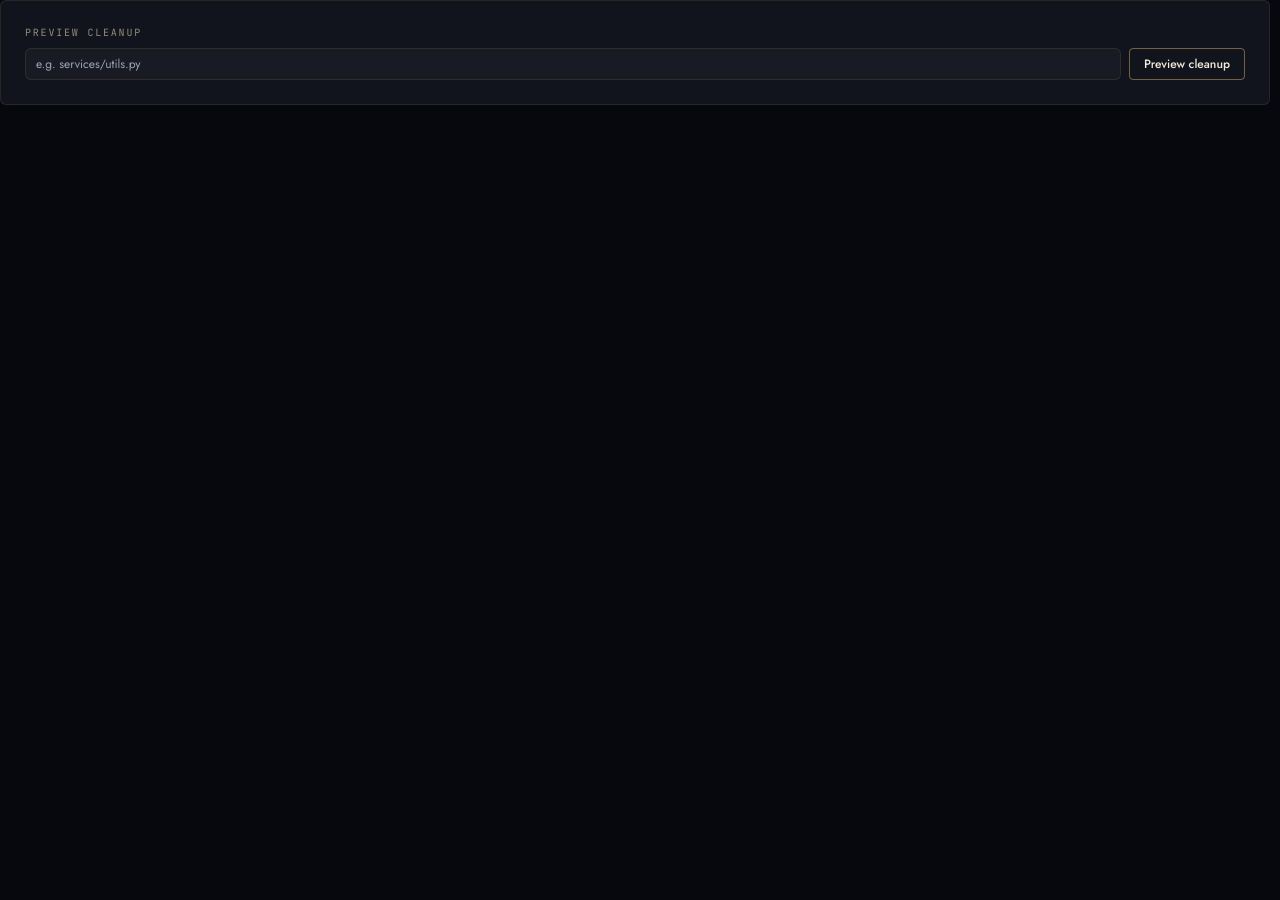
Test case: Ticket F-UI · SimplifyFilePanel › shows an honest fallback when the commit succeeded but opening the PR failed (pr_url null)
The image size is (1280, 900).
Type "a.py" into the field with test id "simplify-file-path-input".
click(573, 64); type("a.py")  # box [25,48,1121,80]
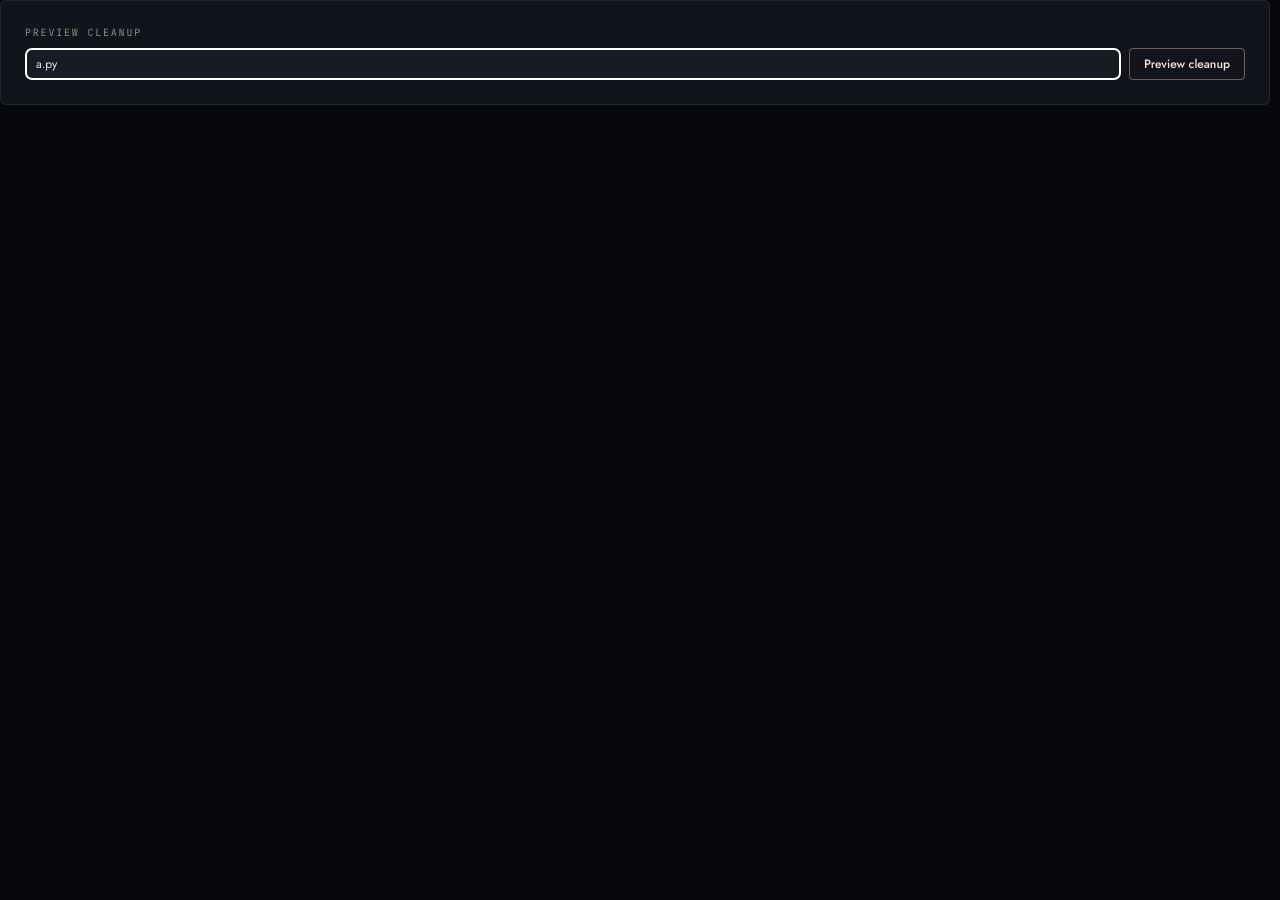
Click the button with test id "simplify-file-preview-btn".
click(1187, 64)  # box [1129,48,1245,80]
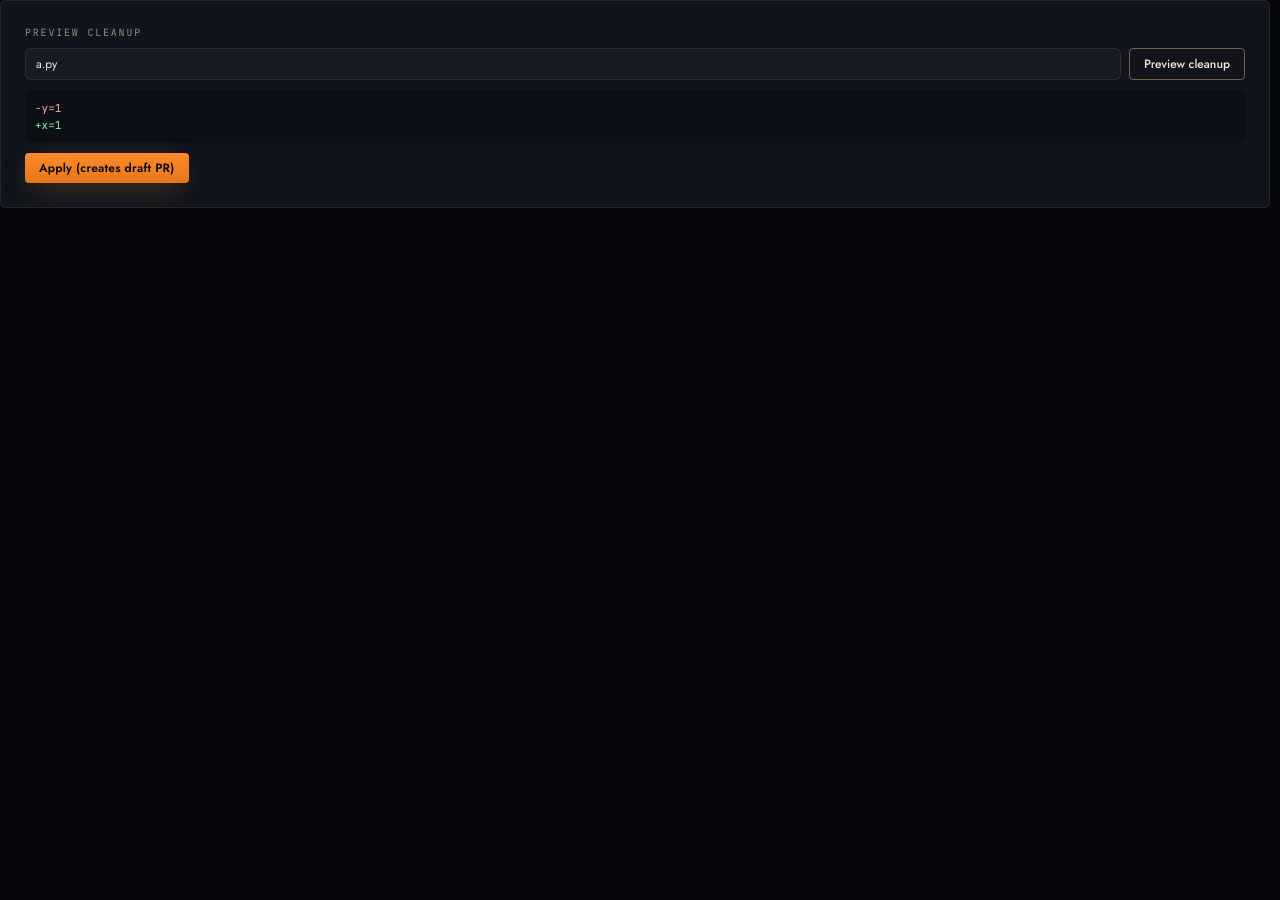
Now the button with test id "simplify-apply-btn" is shown
Click the button with test id "simplify-apply-btn".
click(107, 168)  # box [25,153,188,183]
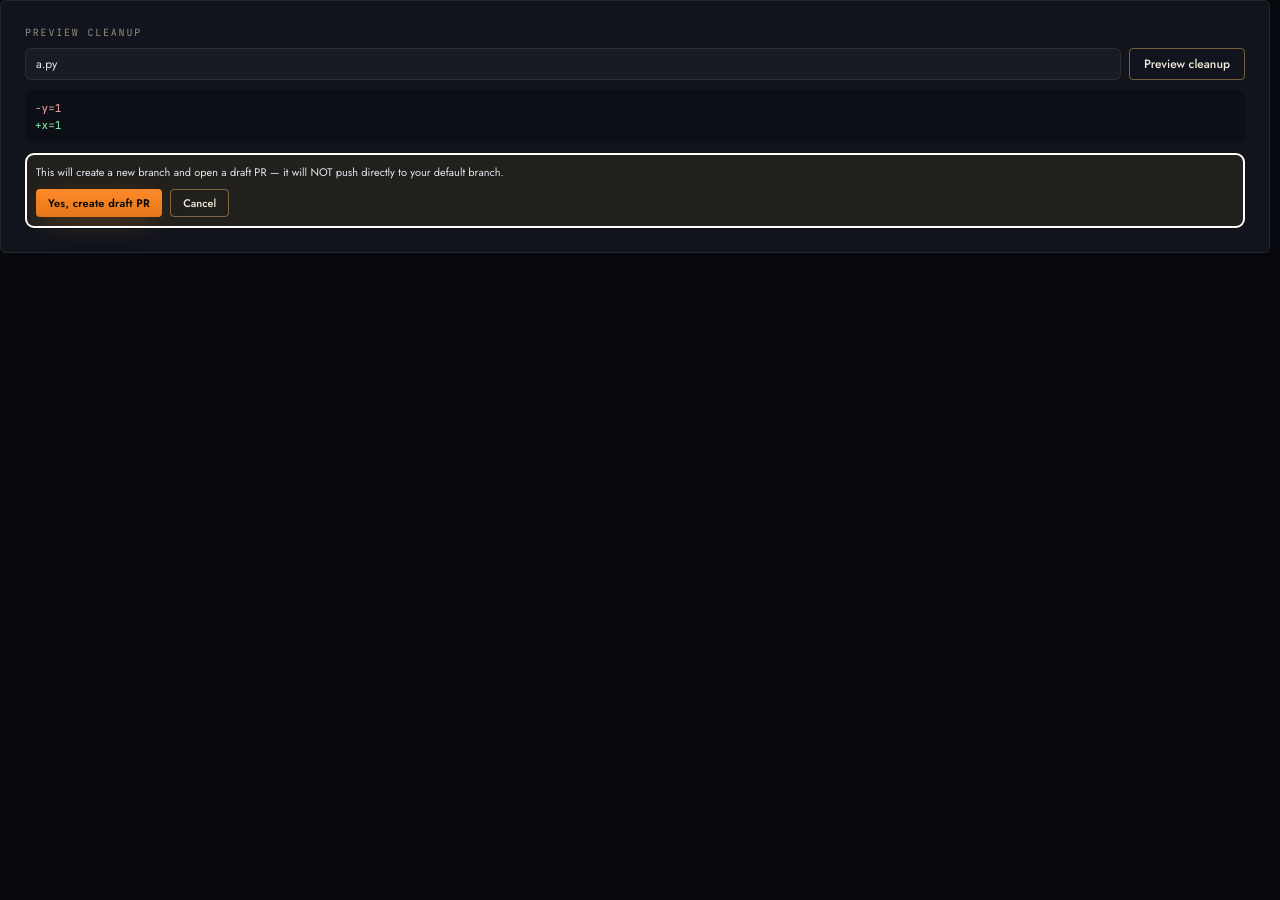
Click the button with test id "simplify-apply-confirm-yes".
click(99, 203)  # box [36,188,162,217]
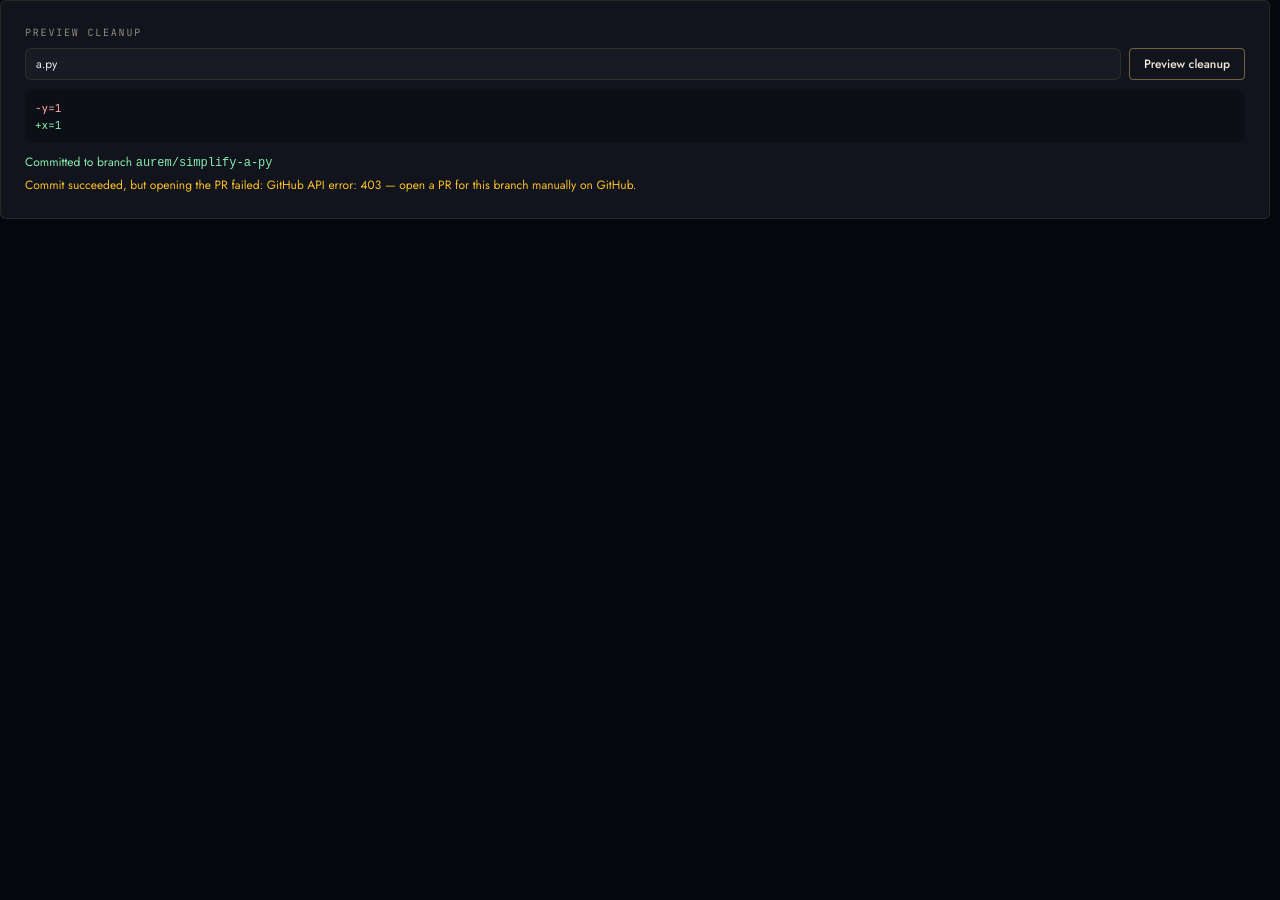
Now the text with test id "simplify-pr-error" is shown, box [25,176,636,194]
Now the text with test id "simplify-pr-error" shows "GitHub API error: 403", box [260,176,381,194]
